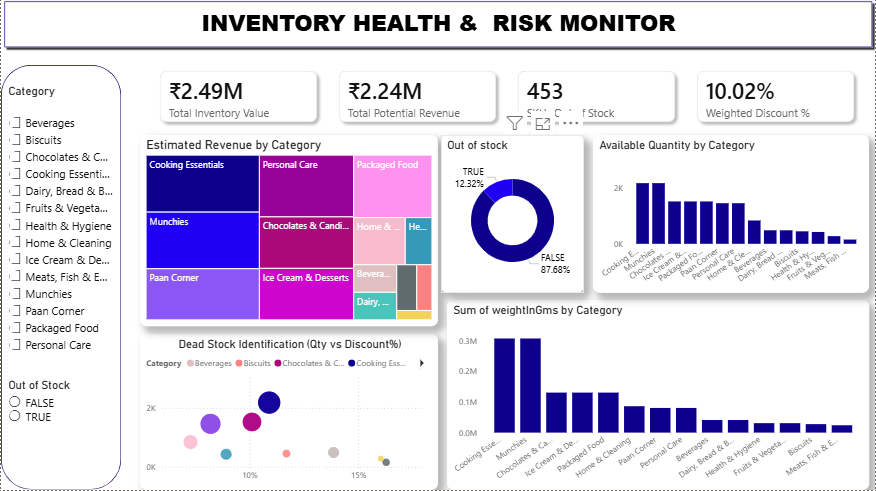

The dashboard page shown, as its layout file describes it:
{"tool":"powerbi","page":{"name":"ZEPTO","canvas":[1280,720],"ordinal":0},"visuals":[{"type":"shape","box":[0,0,1280,77.1],"z":0},{"type":"textbox","box":[0,8.6,1280,60],"z":1000},{"type":"cardVisual","fields":{"Data":["q_commerce zepto_1.Total Inventory Value","q_commerce zepto_1.Total Potential Revenue","q_commerce zepto_1.SKUs Out of Stock","q_commerce zepto_1.Weighted Discount %"]},"box":[203.4,77.6,1077.1,133.2],"z":2000},{"type":"shape","box":[0,98.6,175.7,621.4],"z":3000},{"type":"listSlicer","fields":{"Values":["q_commerce zepto_1.Category"]},"box":[5.9,125.9,165.4,430.2],"z":4000},{"type":"listSlicer","title":"Out of Stock","fields":{"Values":["q_commerce zepto_1.outOfStock"]},"box":[5.9,556.1,165.4,70.2],"z":5000},{"type":"scatterChart","title":"Dead Stock Identification (Qty vs Discount%)","fields":{"X":["q_commerce zepto_1.Weighted Discount %"],"Y":["Sum(q_commerce zepto_1.availableQuantity)"],"Series":["q_commerce zepto_1.Category"],"Size":["q_commerce zepto_1.Total Inventory Value"]},"box":[203.4,491.7,436.1,228.3],"z":6000},{"type":"treemap","title":"Estimated Revenue by Category","fields":{"Group":["q_commerce zepto_1.Category"],"Values":["Sum(q_commerce zepto_1.discountedSellingPrice)"]},"box":[203.4,200.5,436.1,279.5],"z":7000},{"type":"columnChart","fields":{"Y":["Sum(q_commerce zepto_1.weightInGms)"],"Category":["q_commerce zepto_1.Category"]},"box":[652.7,442,617.6,278],"z":8000},{"type":"donutChart","title":"Out of stock","fields":{"Y":["Sum(q_commerce zepto_1.sku_id)"],"Category":["q_commerce zepto_1.outOfStock"]},"box":[643.9,200.5,209.3,231.2],"z":9000},{"type":"columnChart","title":"Available Quantity by Category","fields":{"Y":["Sum(q_commerce zepto_1.availableQuantity)"],"Category":["q_commerce zepto_1.Category"]},"box":[866.3,200.5,403.9,231.2],"z":11000}]}

Visuals, with their boxes in screenshot pixels (x1, y1, x2, y2), scaled from the page's 1280x720 canvas onto the 876x491 screenshot:
shape: box=[0, 0, 875, 53]
textbox: box=[0, 6, 875, 47]
cardVisual - q_commerce zepto_1.Total Inventory Value x q_commerce zepto_1.Total Potential Revenue: box=[139, 53, 875, 144]
shape: box=[0, 67, 120, 490]
listSlicer - q_commerce zepto_1.Category: box=[4, 86, 117, 379]
"Out of Stock" listSlicer: box=[4, 379, 117, 427]
"Dead Stock Identification (Qty vs Discount%)" scatterChart: box=[139, 335, 438, 490]
"Estimated Revenue by Category" treemap: box=[139, 137, 438, 327]
columnChart - Sum(q_commerce zepto_1.weightInGms) x q_commerce zepto_1.Category: box=[447, 301, 869, 490]
"Out of stock" donutChart: box=[441, 137, 584, 294]
"Available Quantity by Category" columnChart: box=[593, 137, 869, 294]
